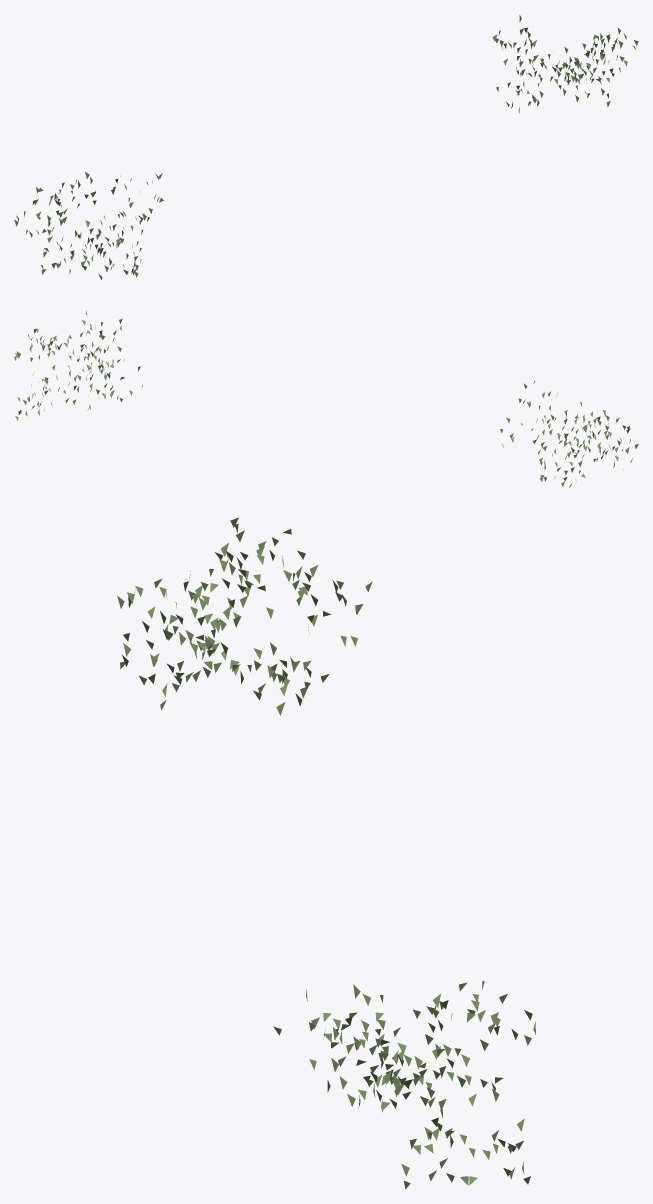
File: xiyuan-vegetation-18-far.glb
3 renders of one model, top to bottom at view 1: azimuth 30°, elevation 25°; view 2: azimuth 150°, elevation 25°; view 3: azimuth 270°, elevation 25°, orthographic. The views are drawn at different scales.
Parts seen in each view (by area): view 1: vegetation broadleaf leaves; view 2: vegetation broadleaf leaves; view 3: vegetation broadleaf leaves.
Part boxes in pixels (left/top/right/bottom): vegetation broadleaf leaves: left=14, top=15, right=638, bottom=279; vegetation broadleaf leaves: left=14, top=310, right=638, bottom=487; vegetation broadleaf leaves: left=117, top=517, right=535, bottom=1189.
Bounding box in the file's own units: 36.25 × 5.41 × 11.68.
